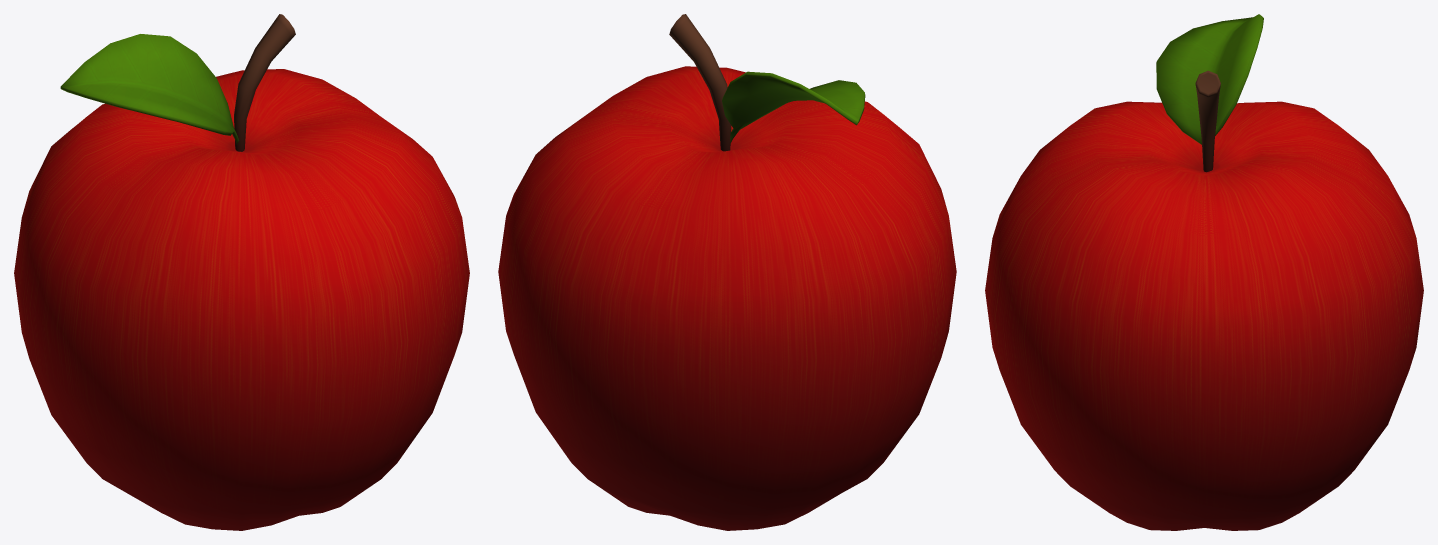
File: apple.glb
3 views of the same model, side by side, from view 1: azimuth 30°, elevation 25°; view 2: azimuth 150°, elevation 25°; view 3: azimuth 270°, elevation 25° (orthographic). The views are drawn at different scales.
Parts seen in each view (by area): view 1: Apple; view 2: Apple; view 3: Apple.
Boxes of the visible parts, x1,y1,x2,y2 form: Apple: [14, 14, 469, 530]; Apple: [498, 14, 956, 530]; Apple: [985, 14, 1423, 530].
Size of the model in its own units: 3.99 by 4.56 by 3.99.
Materials: 1 (1 with a texture image).
